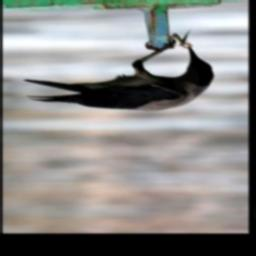Crow: (21, 39, 214, 113)
